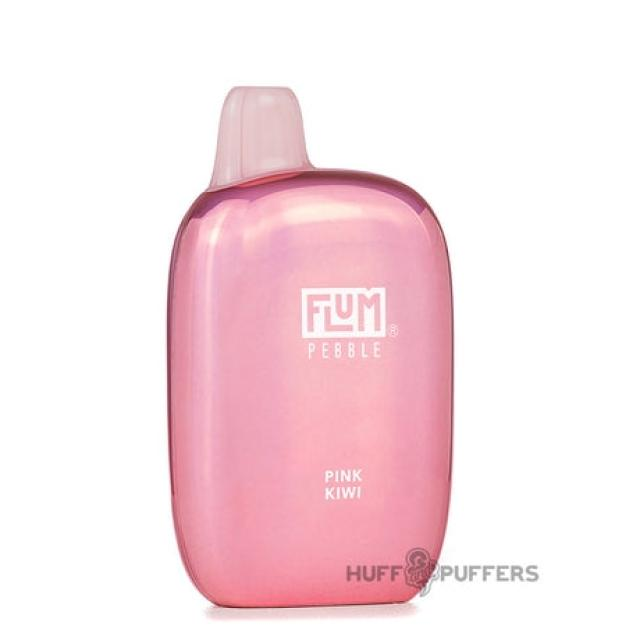Vapes: (164, 83, 455, 608)
